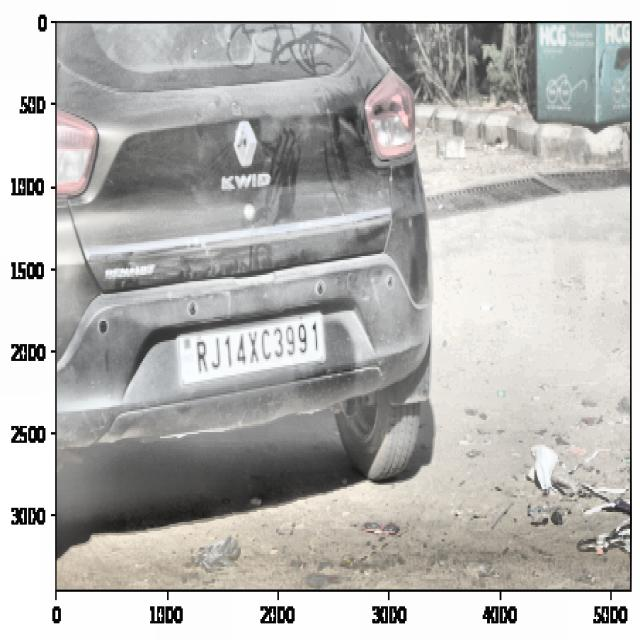license_plate: (191, 315, 324, 379)
